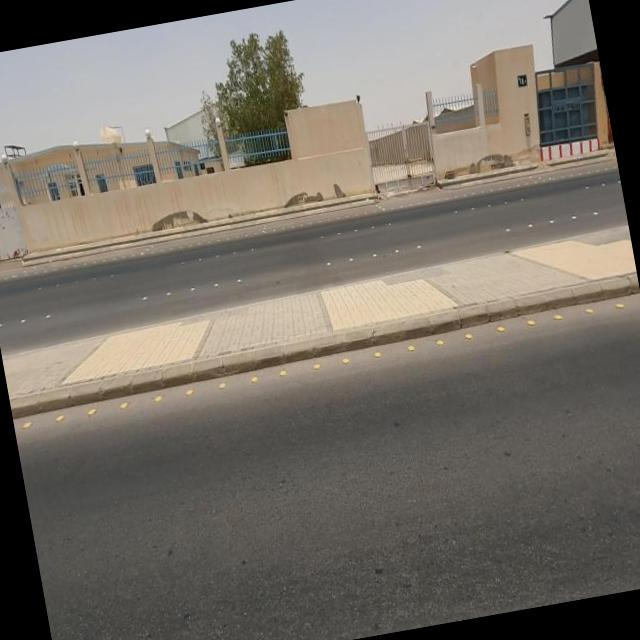debris: (436, 106, 550, 212), (118, 186, 232, 254), (252, 166, 348, 230)
